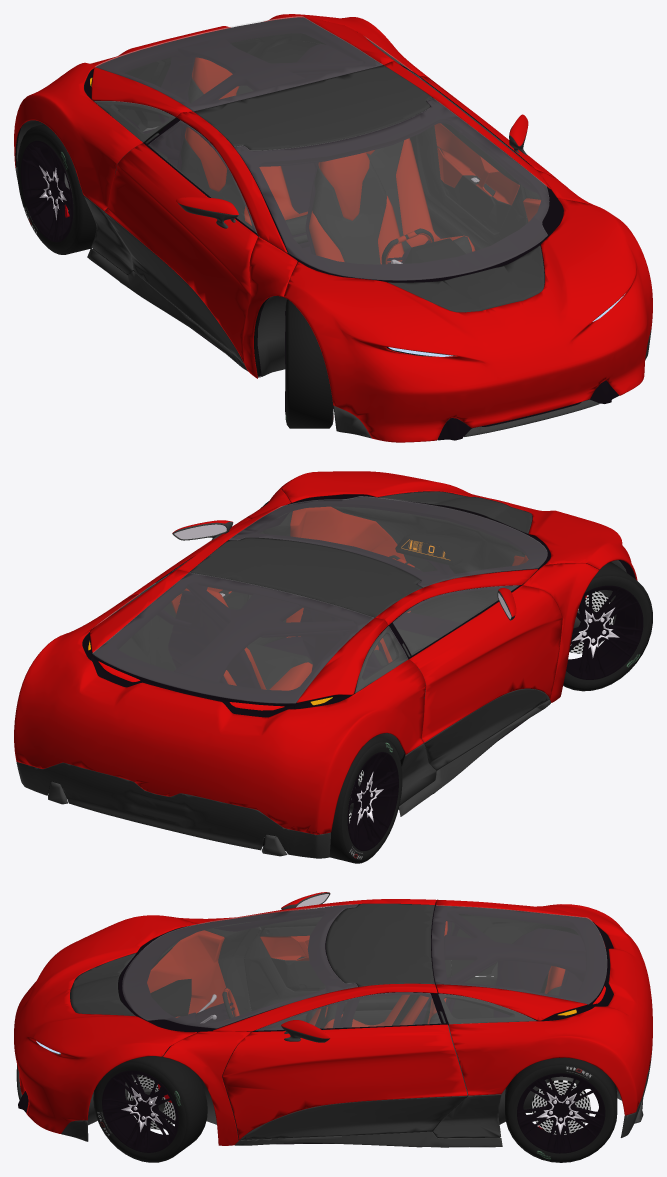
The model's file is supercar.glb.
3 views of the same model, one above another, from view 1: azimuth 30°, elevation 25°; view 2: azimuth 150°, elevation 25°; view 3: azimuth 270°, elevation 25° (orthographic). The views are drawn at different scales.
Parts seen in each view (by area): view 1: BodyHood, BodyWindshield, BodyRearwindow, BodyDoorRColor1, BodyRearPanelsColor1, BodyWindshieldGasket, BodyRoofPanel, InteriorSeatsColor1, InteriorSeatsColor2, BodyPillars, InteriorPillar, InteriorRearHatch (+20 smaller); view 2: BodyRearPanelsColor1, BodyRearwindow, BodyWindshield, BodyPanelsColor2, BodyDoorRColor1, BodyRoofPanel, BodyHood, InteriorRearHatch, BodyPillars, InteriorPillar, BodyWindshieldGasket, InteriorDashMid (+20 smaller); view 3: BodyWindshield, BodyRearPanelsColor1, BodyDoorLColor1, BodyHood, BodyRearwindow, BodyRoofPanel, BodyPillars, BodyWindshieldGasket, BodyDoorLColor2, BodyPanelsColor2, WheelFrontL, InteriorRearHatch (+24 smaller).
Part boxes in pixels (left/top/right/bottom): BodyHood: left=283, top=198, right=652, bottom=442; BodyWindshield: left=234, top=98, right=549, bottom=280; BodyRearwindow: left=95, top=16, right=382, bottom=110; BodyDoorRColor1: left=104, top=143, right=257, bottom=363; BodyRearPanelsColor1: left=14, top=14, right=428, bottom=210; BodyWindshieldGasket: left=234, top=99, right=563, bottom=282; BodyRoofPanel: left=193, top=65, right=432, bottom=150; InteriorSeatsColor1: left=185, top=57, right=475, bottom=264; InteriorSeatsColor2: left=180, top=78, right=472, bottom=264; BodyPillars: left=176, top=61, right=598, bottom=378; InteriorPillar: left=158, top=37, right=434, bottom=168; InteriorRearHatch: left=93, top=17, right=383, bottom=117; BodyRearPanelsColor1: left=14, top=569, right=425, bottom=834; BodyRearwindow: left=92, top=573, right=373, bottom=703; BodyWindshield: left=229, top=496, right=547, bottom=587; BodyPanelsColor2: left=16, top=700, right=550, bottom=858; BodyDoorRColor1: left=409, top=585, right=562, bottom=742; BodyRoofPanel: left=189, top=537, right=422, bottom=617; BodyHood: left=279, top=471, right=637, bottom=580; InteriorRearHatch: left=93, top=573, right=386, bottom=707; BodyPillars: left=175, top=489, right=599, bottom=702; InteriorPillar: left=174, top=574, right=417, bottom=682; BodyWindshieldGasket: left=230, top=495, right=550, bottom=587; InteriorDashMid: left=331, top=503, right=528, bottom=623; BodyWindshield: left=122, top=904, right=357, bottom=1028; BodyRearPanelsColor1: left=436, top=899, right=652, bottom=1115; BodyDoorLColor1: left=222, top=1024, right=467, bottom=1140; BodyHood: left=14, top=915, right=196, bottom=1133; BodyRearwindow: left=432, top=905, right=606, bottom=1003; BodyRoofPanel: left=326, top=903, right=434, bottom=986; BodyPillars: left=163, top=899, right=437, bottom=1145; BodyWindshieldGasket: left=118, top=905, right=357, bottom=1032; BodyDoorLColor2: left=240, top=1096, right=467, bottom=1140; BodyPanelsColor2: left=16, top=1045, right=652, bottom=1147; WheelFrontL: left=93, top=1054, right=207, bottom=1162; InteriorRearHatch: left=431, top=905, right=606, bottom=1020.
Size of the model in its own units: 2.54 by 1.15 by 4.36.
21 materials, 5 textured.
